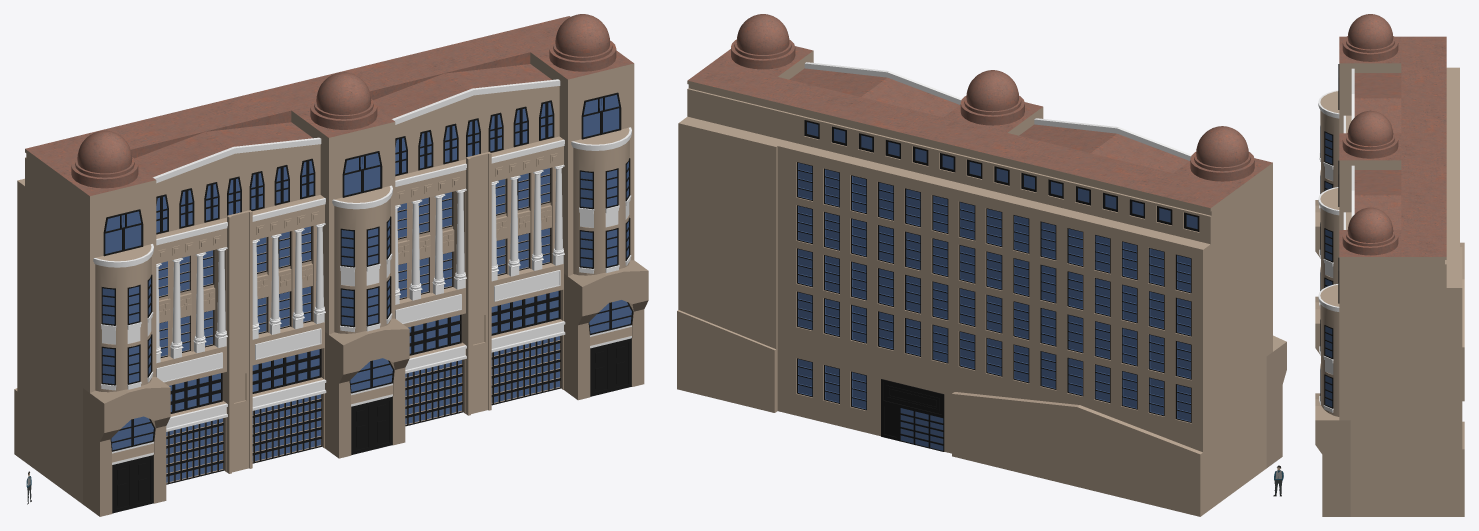
File: Hotel-Astoria.glb
3 views of the same model, side by side, from view 1: azimuth 30°, elevation 25°; view 2: azimuth 150°, elevation 25°; view 3: azimuth 270°, elevation 25° (orthographic). The views are drawn at different scales.
Visible parts, largest first — view 1: root; view 2: root; view 3: root.
Boxes of the visible parts, x1=… form: root: x1=14, y1=14, x2=648, y2=516; root: x1=677, y1=14, x2=1286, y2=516; root: x1=1315, y1=14, x2=1464, y2=516.
Size of the model in its own units: 35.33 by 20.92 by 9.47.
Materials: 24 (5 with a texture image).
